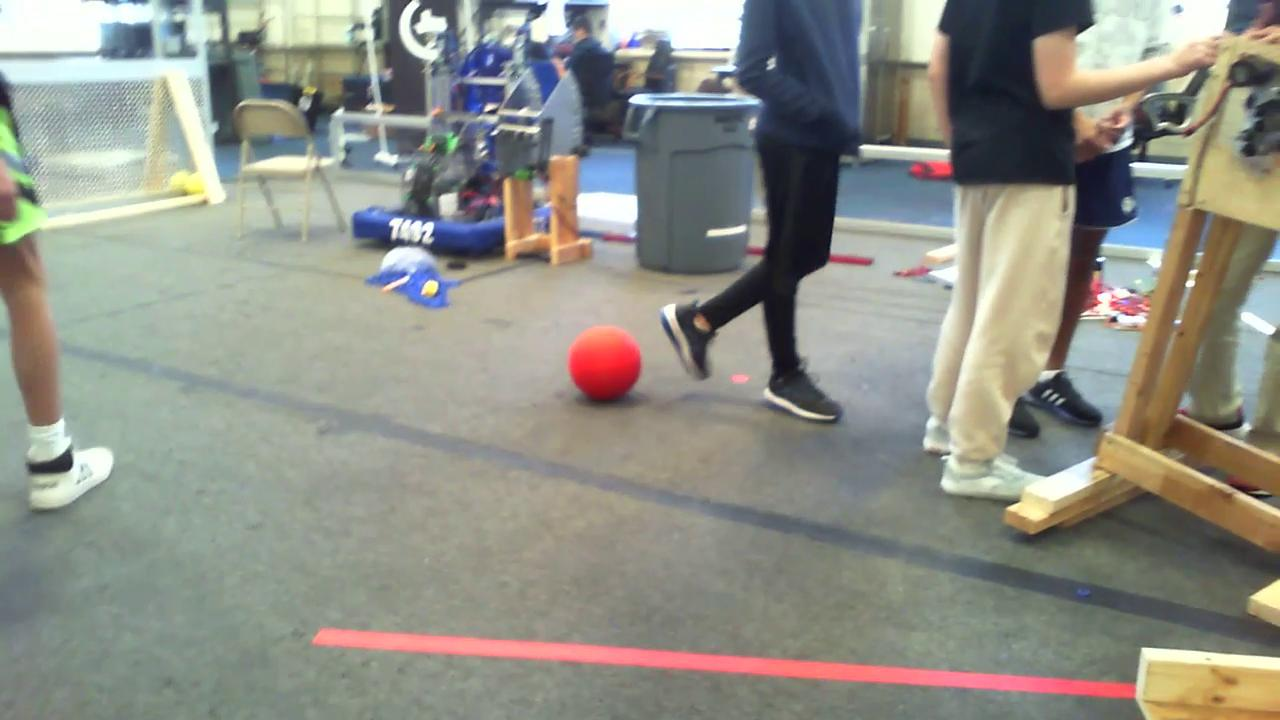Red_Ball: (563, 314, 643, 405)
